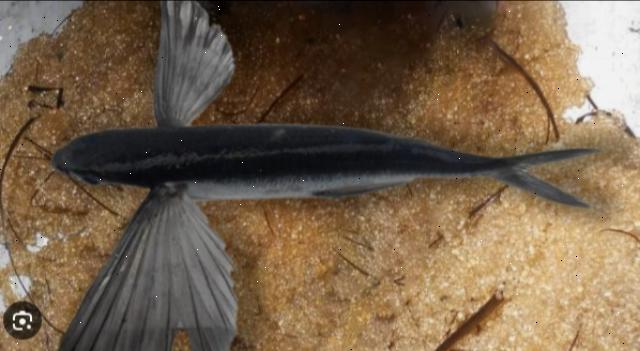Sirip Dada: (51, 0, 270, 351)
Sirip Ekor: (479, 132, 615, 222)
